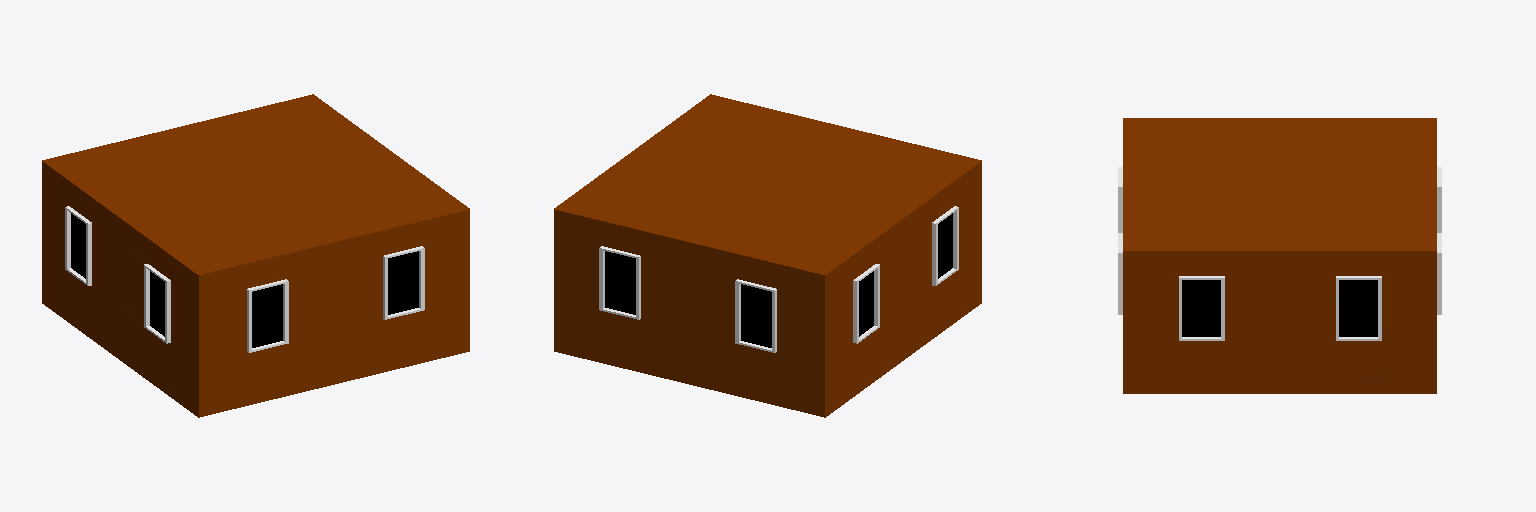
3 renders of one model, left to right at view 1: azimuth 30°, elevation 25°; view 2: azimuth 150°, elevation 25°; view 3: azimuth 270°, elevation 25°, orthographic.
Visible parts, largest first — view 1: Building.002; view 2: Building.002; view 3: Building.002.
Part boxes in pixels (x1,y1,x2,y2): Building.002: (42,94,469,417); Building.002: (554,94,981,417); Building.002: (1118,118,1441,393).
Bounding box in the file's own units: 2.06 × 1 × 2.06.
1 materials, 1 textured.